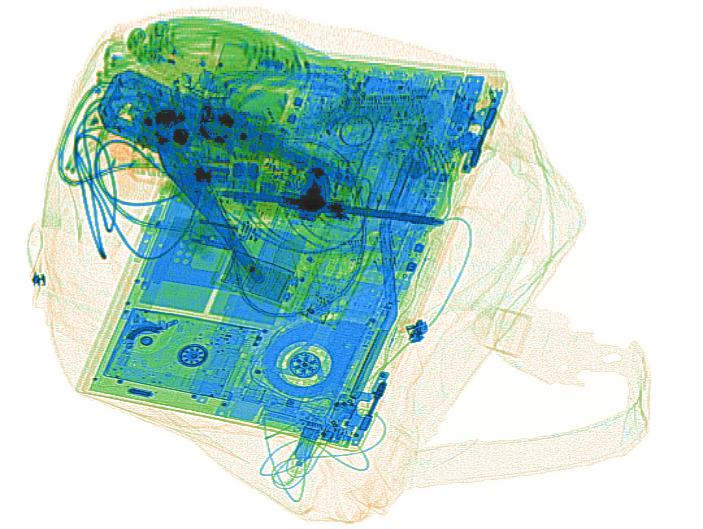battery: (218, 247, 300, 305)
